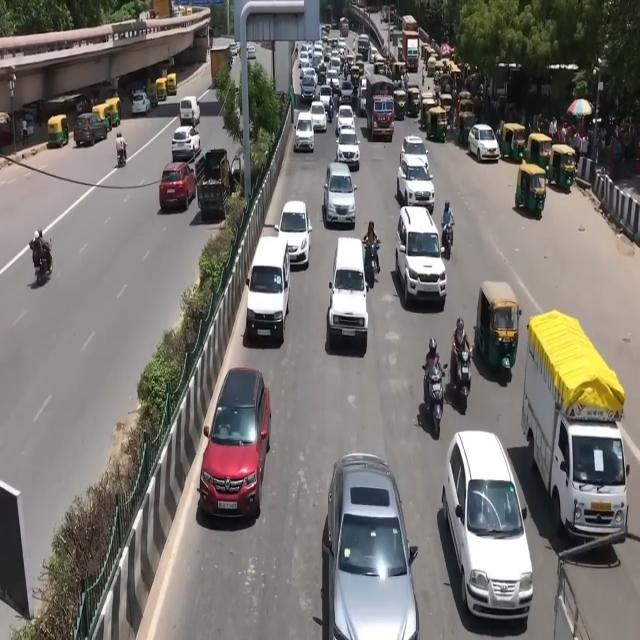auto: (473, 280, 519, 374), (515, 160, 547, 218), (549, 143, 577, 191), (526, 132, 554, 180), (500, 121, 526, 163), (426, 105, 448, 144), (48, 114, 70, 149), (92, 101, 114, 133), (420, 94, 438, 133), (457, 110, 477, 145), (439, 93, 454, 127), (406, 84, 421, 118), (393, 88, 408, 120), (146, 79, 160, 108), (155, 77, 167, 102), (165, 72, 177, 96)
bike-auto: (422, 358, 448, 438), (452, 342, 474, 410), (29, 233, 52, 279), (364, 221, 380, 277), (441, 218, 455, 259), (116, 141, 128, 168)
